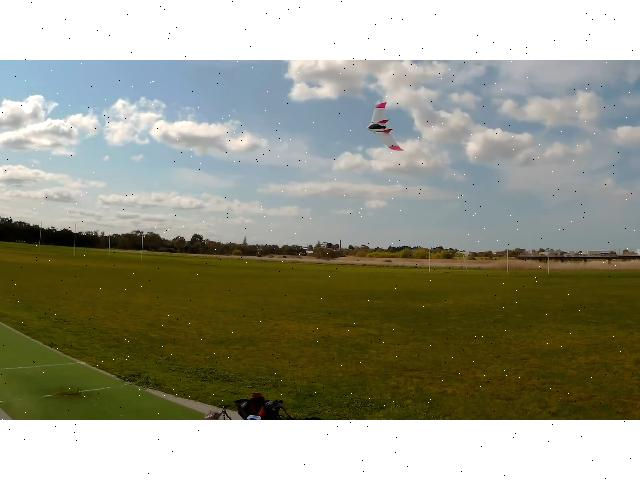Anti-Drone: (366, 103, 408, 152)
